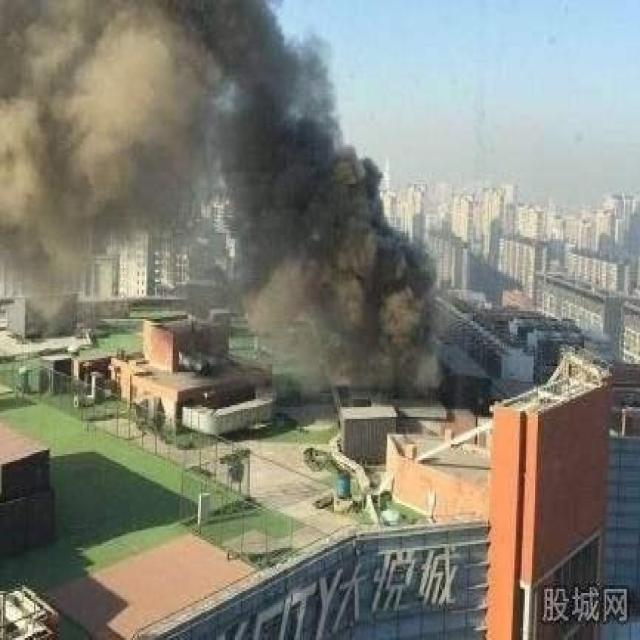Smoke: (0, 0, 445, 393)
